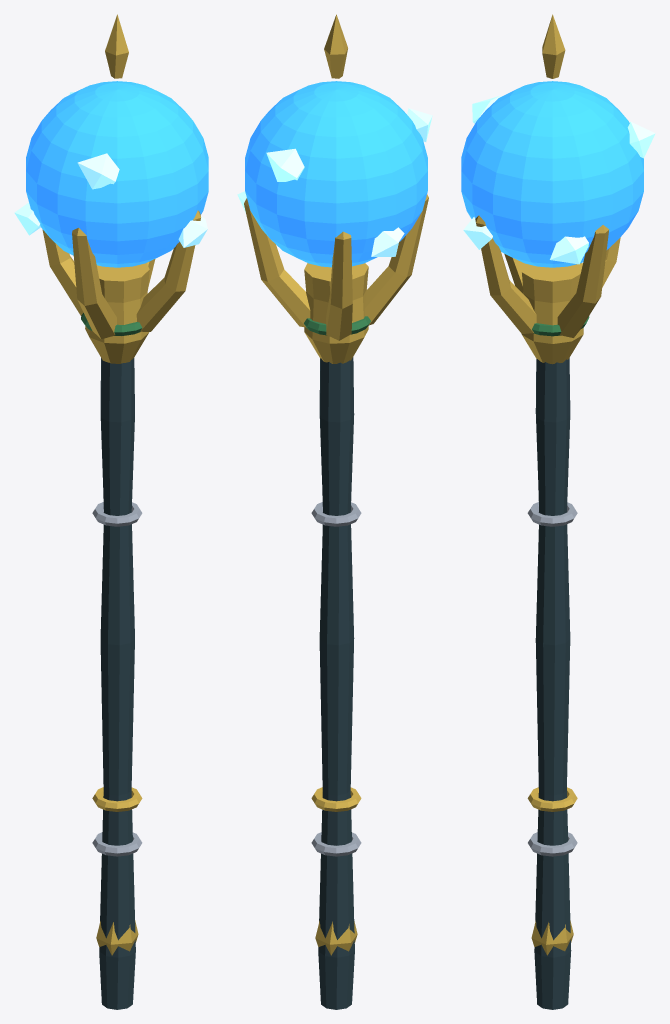
The model's file is staff_blueorb.glb.
3 renders of one model, left to right at view 1: azimuth 30°, elevation 25°; view 2: azimuth 150°, elevation 25°; view 3: azimuth 270°, elevation 25°, orthographic.
Visible parts, largest first — view 1: Bo_Orb, Bo_Shaft, Bo_Neck, Bo_Claw2, Bo_Claw3, Bo_Claw1, Bo_Facet3, Bo_Top, Bo_Tip, Bo_Band1, Bo_Band2, Bo_Band0 (+2 smaller); view 2: Bo_Orb, Bo_Shaft, Bo_Neck, Bo_Claw0, Bo_Claw2, Bo_Claw1, Bo_Top, Bo_Facet1, Bo_Tip, Bo_Facet2, Bo_Band1, Bo_Band2 (+3 smaller); view 3: Bo_Orb, Bo_Shaft, Bo_Neck, Bo_Claw0, Bo_Claw3, Bo_Top, Bo_Facet0, Bo_Tip, Bo_Band2, Bo_Band1, Bo_Band0, Bo_Facet1 (+1 smaller).
Part boxes in pixels (bbox=[...]): Bo_Orb: bbox=[26, 81, 208, 267]; Bo_Shaft: bbox=[99, 358, 135, 1009]; Bo_Neck: bbox=[85, 263, 149, 363]; Bo_Claw2: bbox=[72, 227, 116, 339]; Bo_Claw3: bbox=[136, 210, 200, 331]; Bo_Claw1: bbox=[42, 229, 83, 315]; Bo_Facet3: bbox=[77, 153, 119, 189]; Bo_Top: bbox=[105, 14, 128, 78]; Bo_Tip: bbox=[96, 920, 138, 955]; Bo_Band1: bbox=[92, 787, 142, 811]; Bo_Band2: bbox=[92, 502, 142, 526]; Bo_Band0: bbox=[92, 832, 142, 856]; Bo_Orb: bbox=[245, 81, 427, 267]; Bo_Shaft: bbox=[318, 357, 354, 1009]; Bo_Neck: bbox=[304, 263, 368, 363]; Bo_Claw0: bbox=[244, 198, 310, 327]; Bo_Claw2: bbox=[364, 194, 428, 325]; Bo_Claw1: bbox=[326, 231, 352, 340]; Bo_Top: bbox=[324, 14, 347, 78]; Bo_Facet1: bbox=[266, 148, 304, 181]; Bo_Tip: bbox=[315, 920, 357, 955]; Bo_Facet2: bbox=[371, 227, 404, 256]; Bo_Band1: bbox=[311, 787, 361, 811]; Bo_Band2: bbox=[311, 502, 361, 526]; Bo_Orb: bbox=[461, 81, 643, 267]; Bo_Shaft: bbox=[534, 358, 571, 1009]; Bo_Neck: bbox=[521, 263, 583, 364]; Bo_Claw0: bbox=[557, 225, 608, 337]; Bo_Claw3: bbox=[475, 215, 536, 333]; Bo_Top: bbox=[542, 14, 565, 78]; Bo_Facet0: bbox=[550, 236, 588, 264]; Bo_Tip: bbox=[531, 920, 573, 955]; Bo_Band2: bbox=[527, 502, 577, 526]; Bo_Band1: bbox=[527, 787, 577, 811]; Bo_Band0: bbox=[528, 832, 577, 856]; Bo_Facet1: bbox=[627, 121, 655, 158].
Size of the model in its own units: 0.4 by 2.22 by 0.3952.
